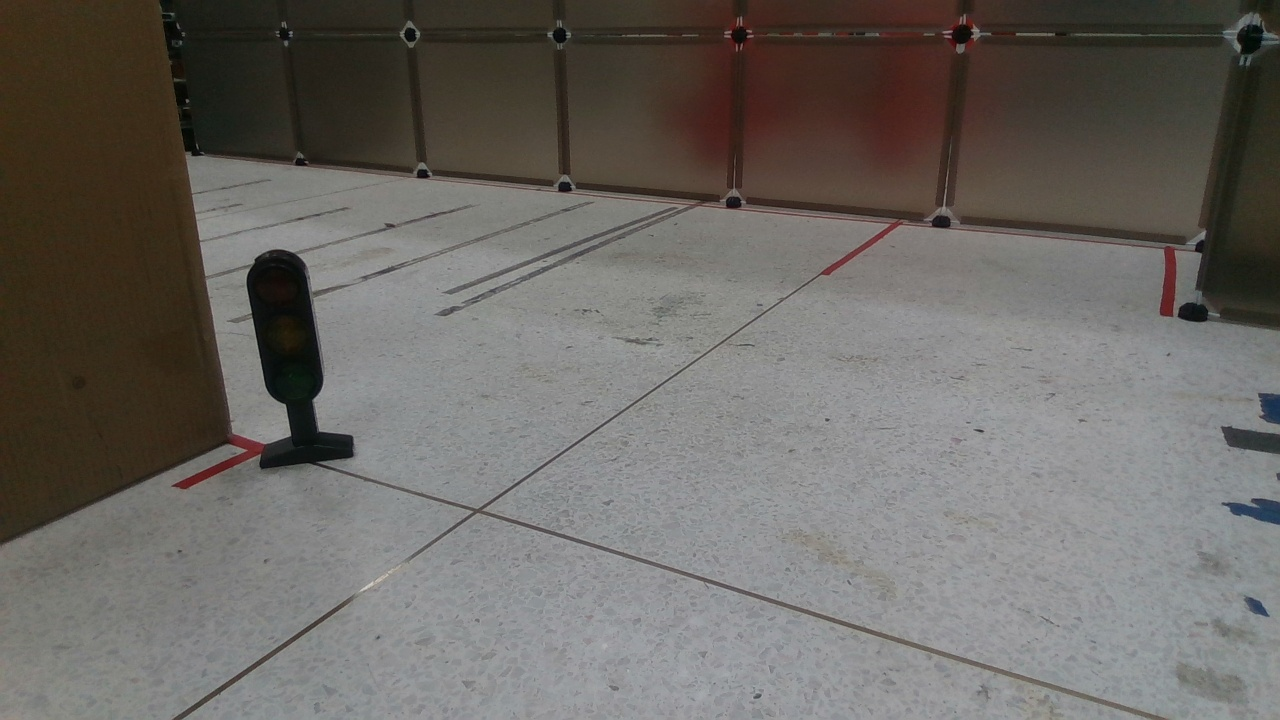Dim traffic light: (234, 247, 365, 479)
